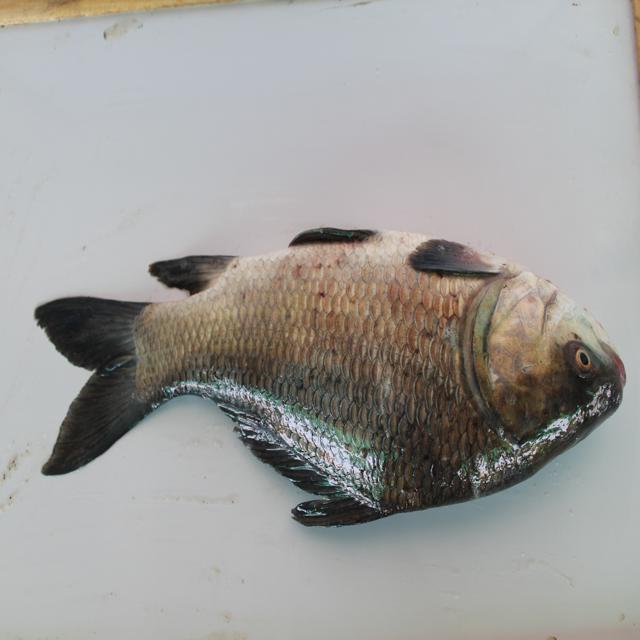Catla: (34, 223, 630, 531)
